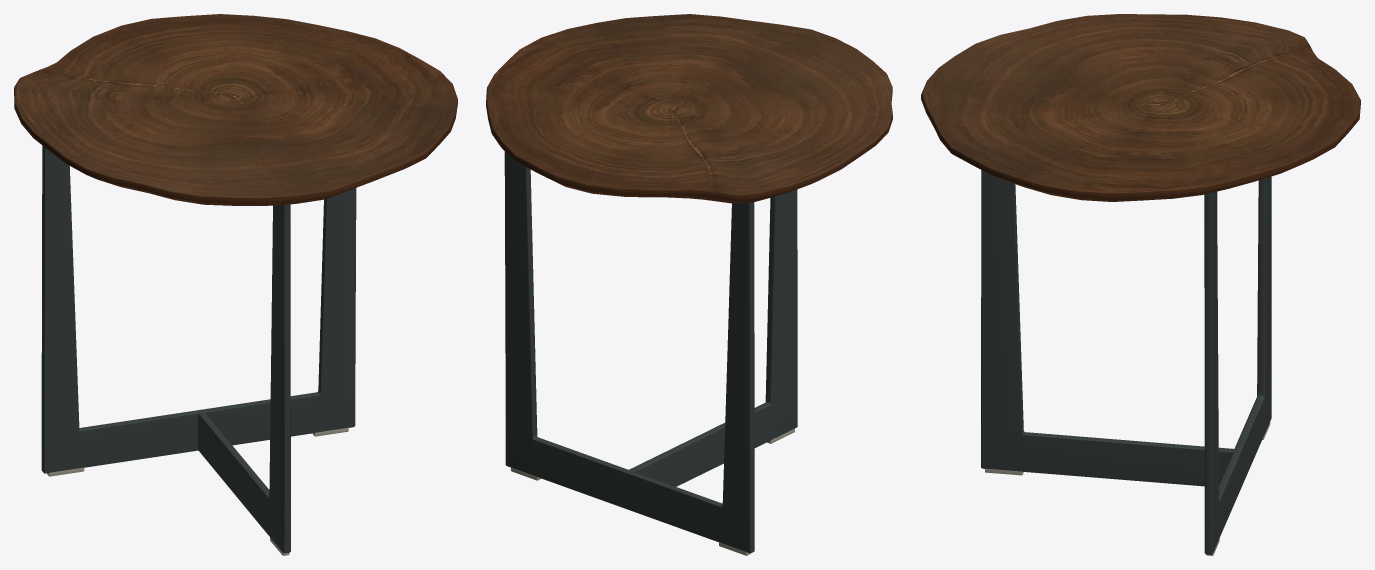
Rendered from abo-B072ZLCB3M.glb.
3 views of the same model, side by side, from view 1: azimuth 30°, elevation 25°; view 2: azimuth 150°, elevation 25°; view 3: azimuth 270°, elevation 25° (orthographic). The views are drawn at different scales.
Size of the model in its own units: 0.477 by 0.476 by 0.494.
Materials: 1 (1 with a texture image).
